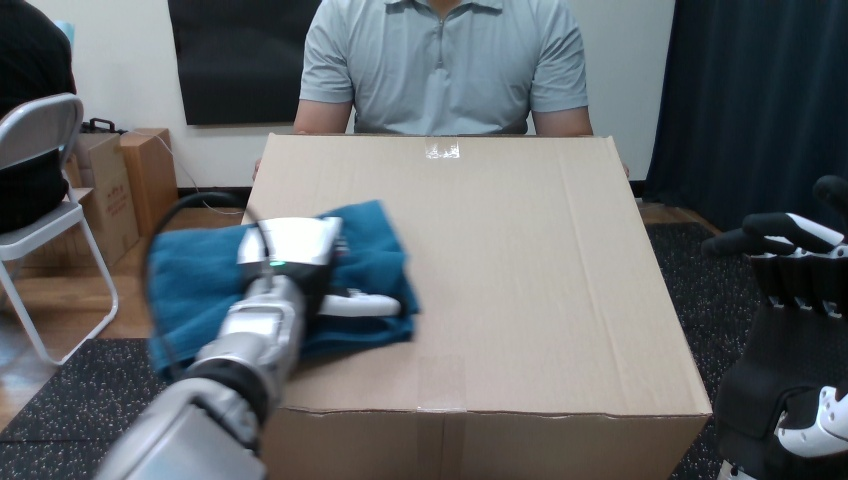left robot hand: (96, 217, 401, 478)
